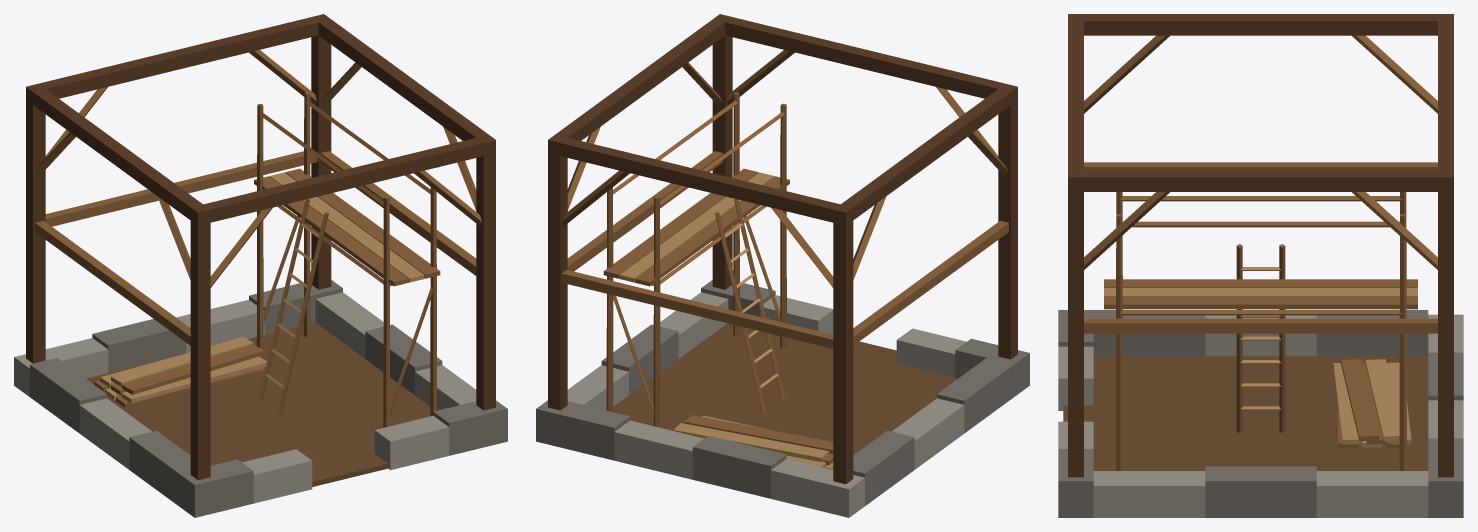
The model's file is site_4x4_2.glb.
3 views of the same model, side by side, from view 1: azimuth 30°, elevation 25°; view 2: azimuth 150°, elevation 25°; view 3: azimuth 270°, elevation 25° (orthographic). The views are drawn at different scales.
Parts seen in each view (by area): view 1: site_4x4_2; view 2: site_4x4_2; view 3: site_4x4_2.
Boxes of the visible parts, left/top/right/bottom form: site_4x4_2: left=14, top=14, right=507, bottom=517; site_4x4_2: left=536, top=14, right=1029, bottom=517; site_4x4_2: left=1058, top=14, right=1463, bottom=517.
Size of the model in its own units: 4 by 3.67 by 4.
